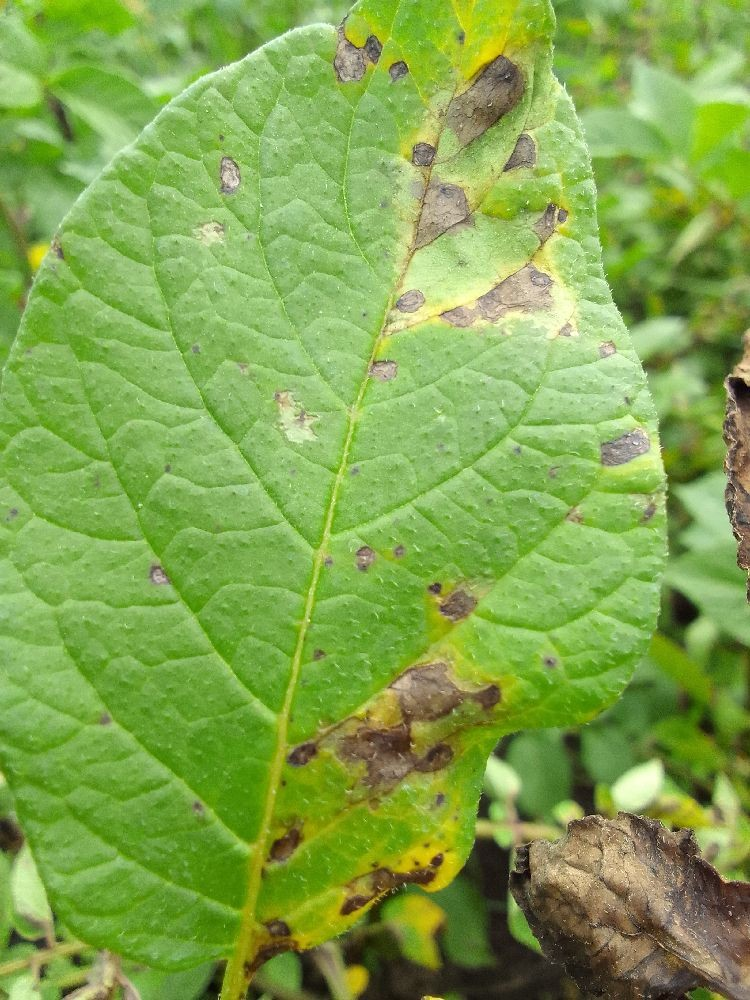late_blight: (219, 640, 749, 999), (443, 37, 536, 156), (51, 944, 147, 1000)
